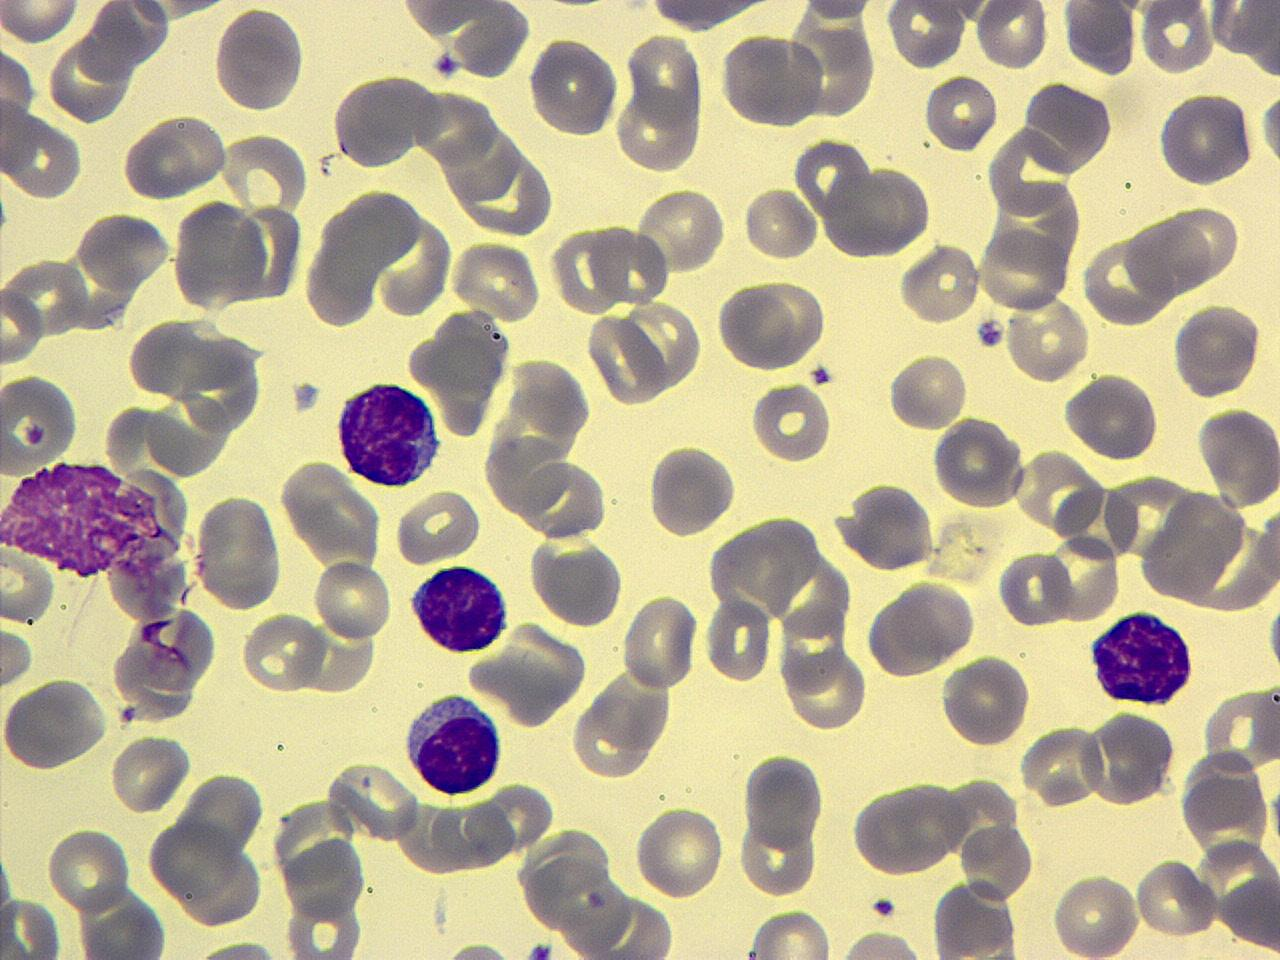Platelets: (526, 940, 552, 960)
RBC: (191, 492, 285, 612), (482, 619, 590, 723), (169, 198, 268, 310), (0, 674, 112, 772), (850, 777, 958, 878), (211, 5, 308, 115), (872, 576, 976, 678), (525, 34, 623, 139), (718, 32, 824, 128), (830, 162, 934, 260), (1170, 298, 1266, 402), (1155, 90, 1255, 188), (631, 802, 726, 902), (1020, 80, 1118, 175), (840, 479, 938, 574), (1083, 706, 1177, 806), (930, 413, 1026, 510), (1062, 372, 1162, 465), (939, 650, 1032, 750), (1195, 403, 1280, 512), (632, 183, 728, 278), (645, 442, 737, 539), (740, 748, 824, 854), (976, 223, 1072, 312), (533, 535, 625, 628), (76, 208, 174, 293), (0, 371, 81, 476), (1049, 869, 1143, 959), (624, 30, 706, 132), (447, 236, 542, 324), (1004, 291, 1090, 386), (326, 759, 422, 843), (584, 310, 666, 407), (716, 280, 802, 373), (46, 823, 133, 916), (621, 590, 699, 692), (622, 297, 703, 394), (220, 129, 312, 214), (1041, 529, 1123, 625), (280, 833, 368, 922), (46, 35, 132, 126), (784, 643, 870, 734), (1125, 214, 1211, 302), (518, 455, 607, 541), (1020, 720, 1104, 810), (1134, 854, 1220, 940), (242, 608, 327, 695), (109, 730, 193, 818), (886, 348, 970, 436), (750, 376, 831, 466), (391, 487, 484, 566), (311, 557, 393, 645), (145, 110, 229, 195), (898, 240, 980, 326), (588, 222, 670, 306), (922, 71, 1001, 156), (703, 592, 775, 686), (958, 820, 1035, 906), (1165, 201, 1243, 282), (742, 183, 818, 263), (998, 548, 1072, 630), (122, 122, 199, 202), (1139, 0, 1217, 77), (1062, 0, 1138, 78), (283, 893, 367, 960), (974, 0, 1050, 73), (886, 0, 966, 70), (0, 538, 57, 626), (746, 904, 834, 960), (637, 0, 776, 34), (0, 0, 84, 46), (0, 284, 46, 367), (0, 40, 38, 131), (833, 928, 934, 960), (0, 619, 36, 691), (182, 937, 289, 960), (442, 938, 516, 960)
WBC: (0, 456, 193, 584), (334, 376, 446, 489), (1086, 606, 1200, 709), (400, 690, 508, 798), (406, 561, 513, 657)
